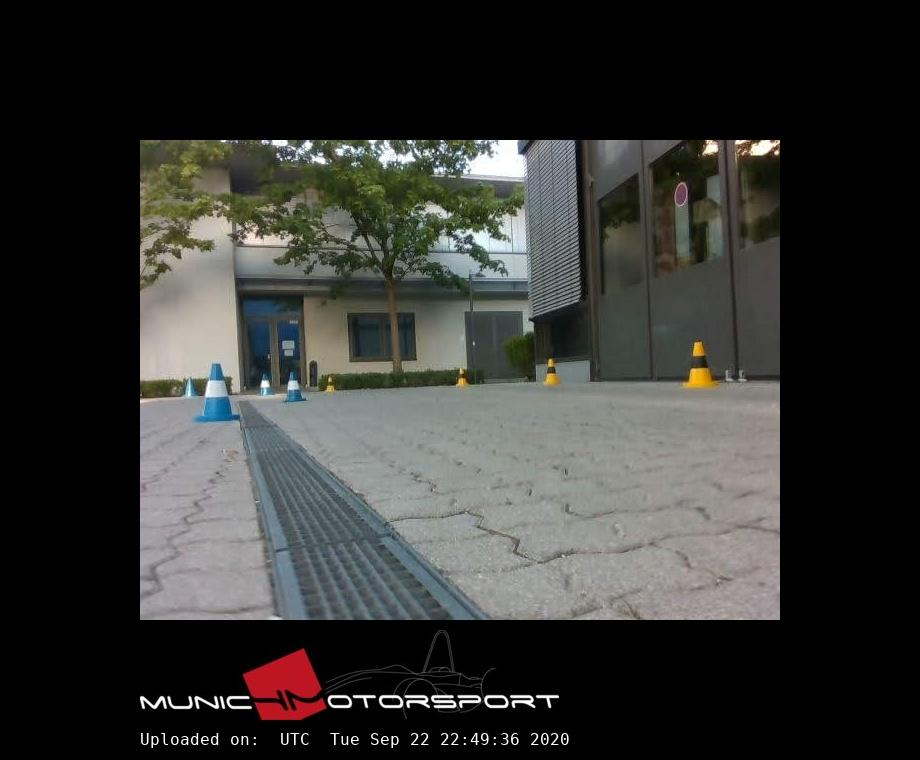blue_cone: (196, 364, 240, 421), (283, 372, 306, 401), (257, 373, 275, 395), (184, 377, 196, 396)
yellow_cone: (684, 342, 718, 387), (543, 359, 560, 385), (456, 368, 469, 387), (325, 376, 336, 393)
